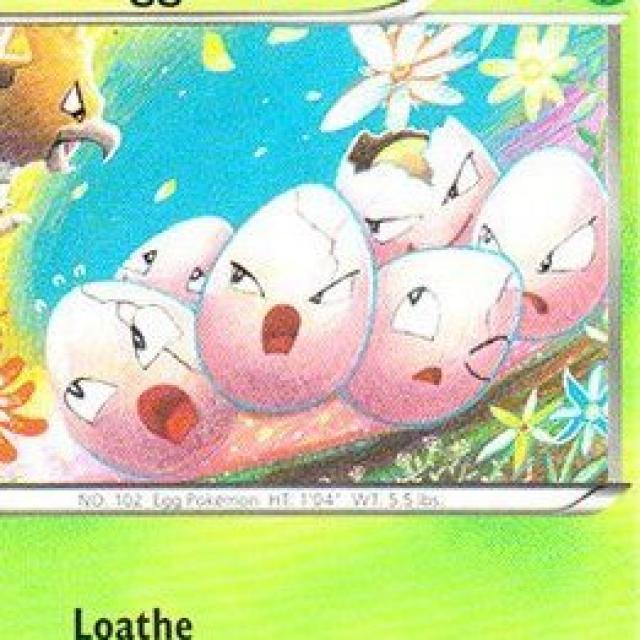Exeggcute: (35, 133, 613, 475)
